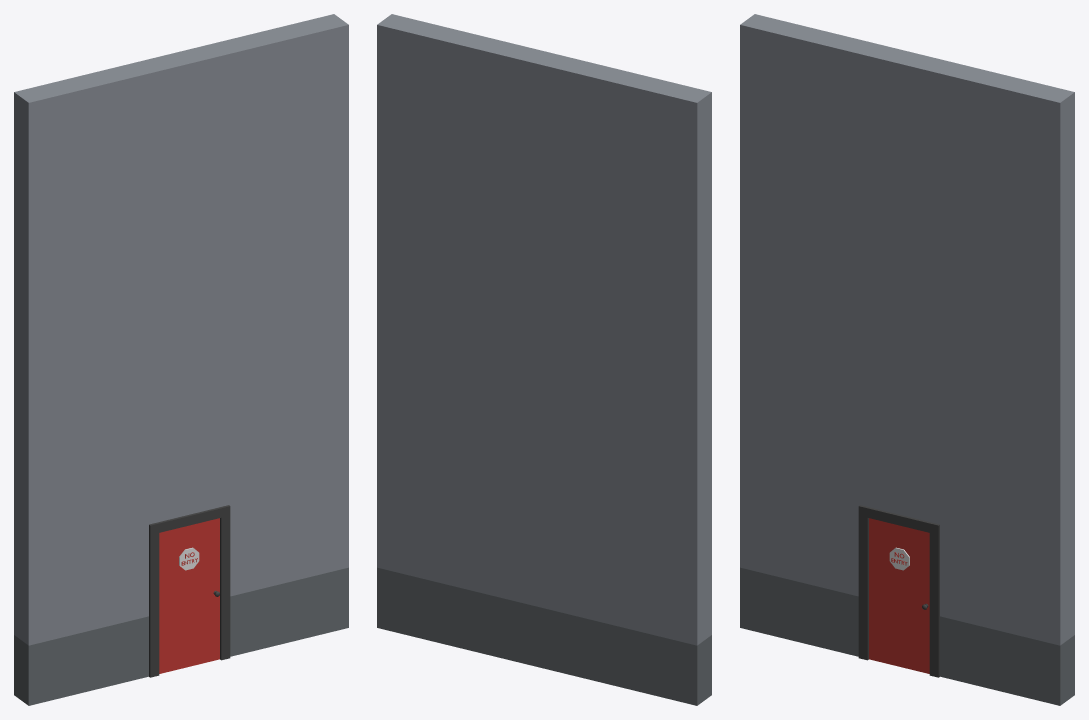
Rendered from Wall3_09.fbx.
The picture shows the model from 3 angles, left to right: view 1: azimuth 30°, elevation 25°; view 2: azimuth 150°, elevation 25°; view 3: azimuth 330°, elevation 25°; orthographic projection.
Visible parts, largest first — view 1: Wall3_09; view 2: Wall3_09; view 3: Wall3_09.
Boxes of the visible parts, x1,y1,x2,y2 form: Wall3_09: (14, 14, 348, 705); Wall3_09: (377, 14, 711, 705); Wall3_09: (740, 14, 1074, 705).
Size of the model in its own units: 500 by 900 by 48.04.
